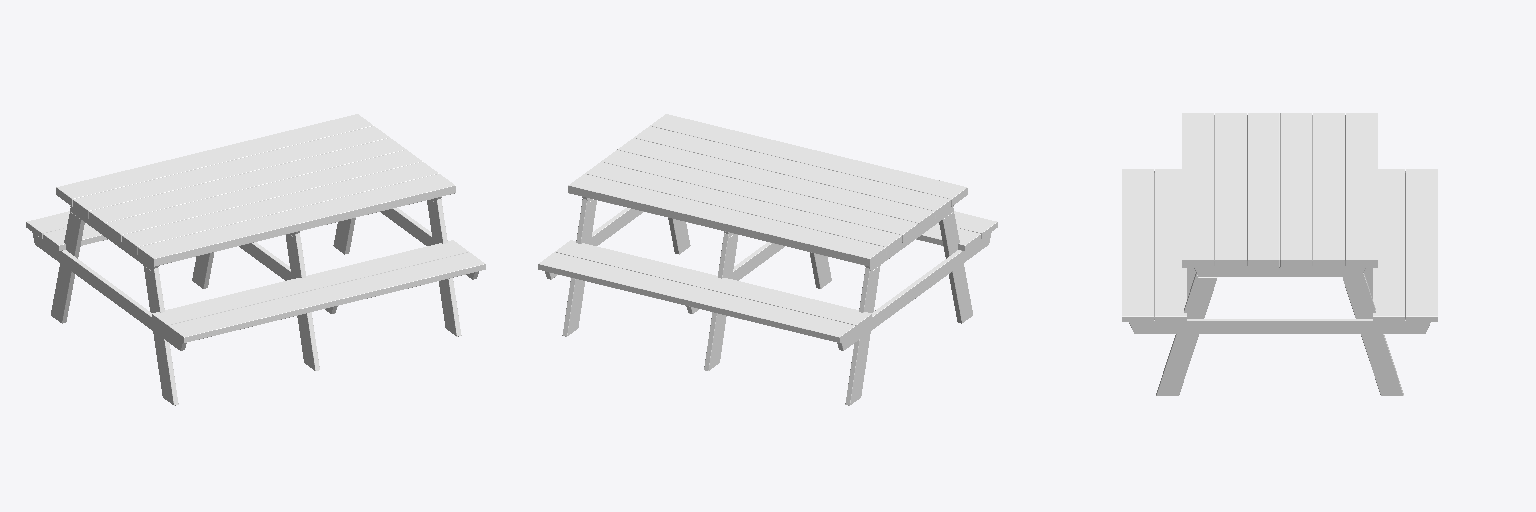
File: bench.obj
The picture shows the model from 3 angles: view 1: azimuth 30°, elevation 25°; view 2: azimuth 150°, elevation 25°; view 3: azimuth 270°, elevation 25°; orthographic projection.
Visible parts, largest first — view 1: Rectangle073; view 2: Rectangle073; view 3: Rectangle073.
Boxes of the visible parts, box(x1,y1,x2,y2) form: Rectangle073: box(26, 114, 485, 405); Rectangle073: box(538, 114, 997, 405); Rectangle073: box(1122, 113, 1437, 395).
Bounding box in the file's own units: 2 × 0.8823 × 1.82.